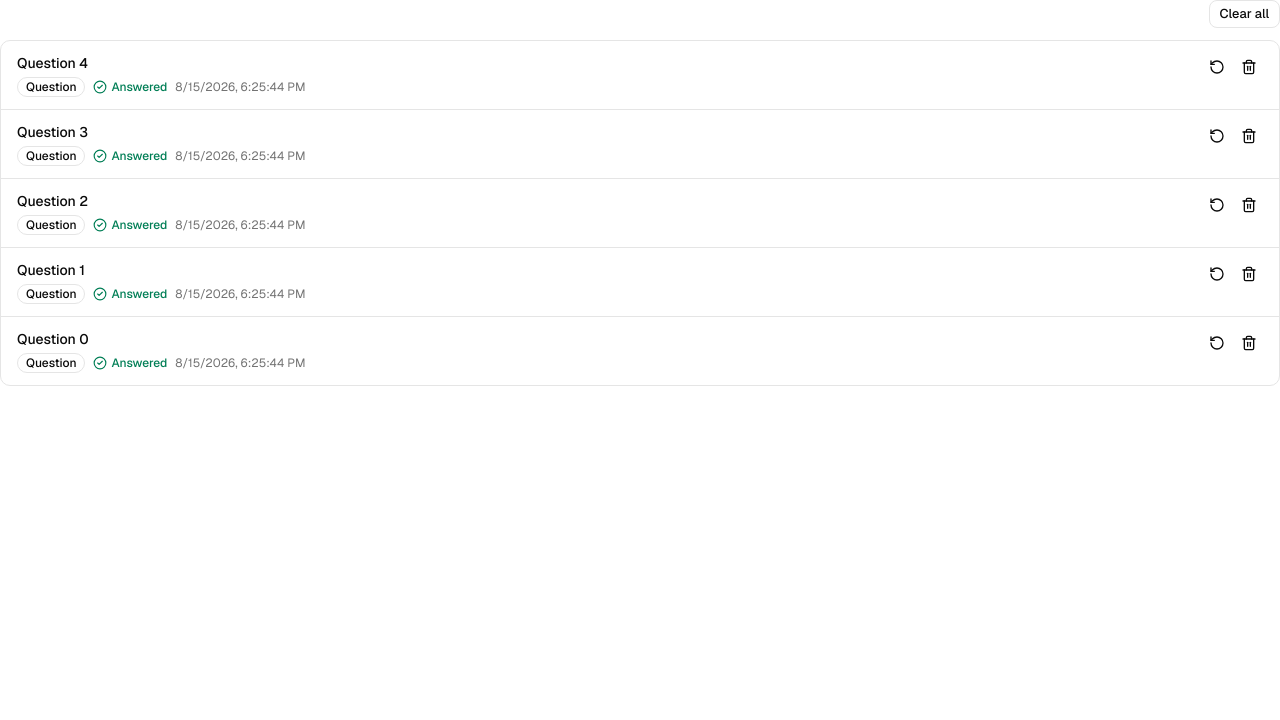
Test: HistoryList component › clear all › clicking 'Clear all' opens confirmation dialog
Expected: the text "Question 0" is shown, [17,330,89,348]
Click the button "Clear all" at (1244, 14), box [1209,0,1279,28]
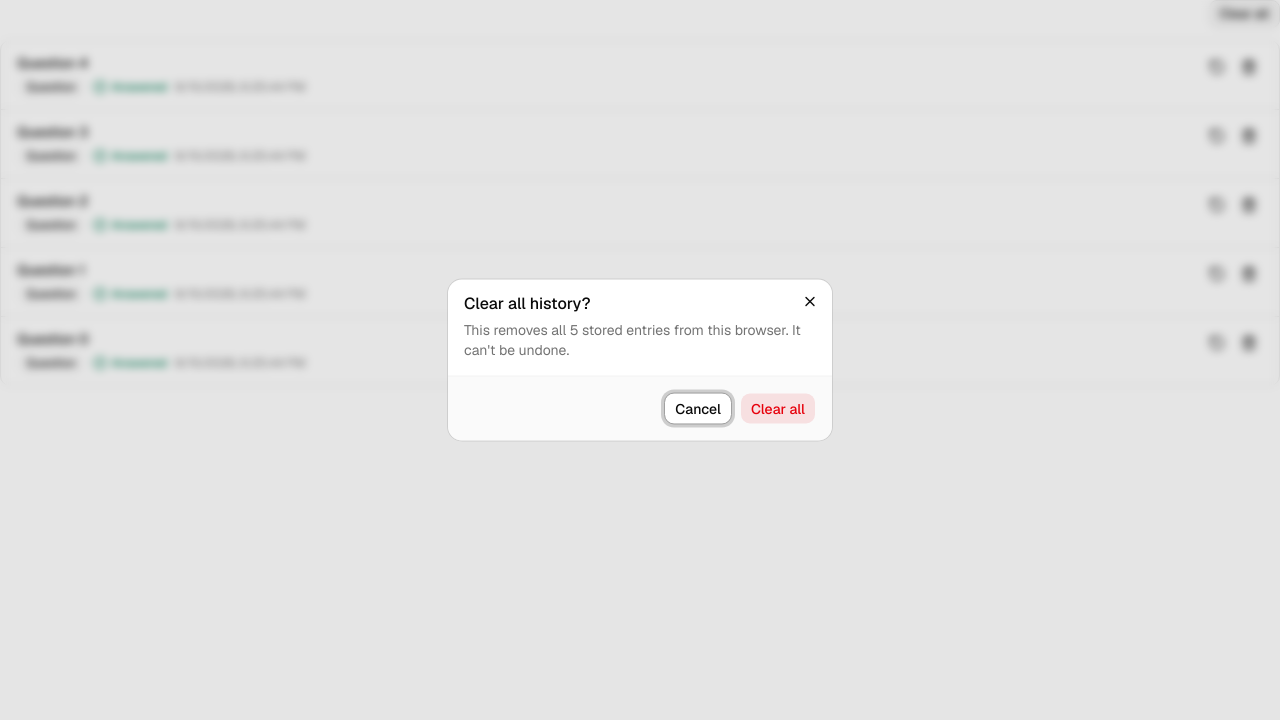
Now the heading "Clear all history?" is shown, box [464,292,591,314]
